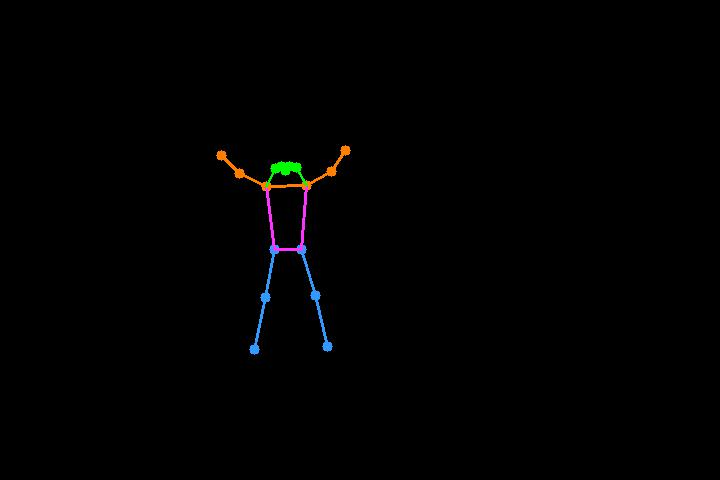normal: (203, 120, 370, 371)
